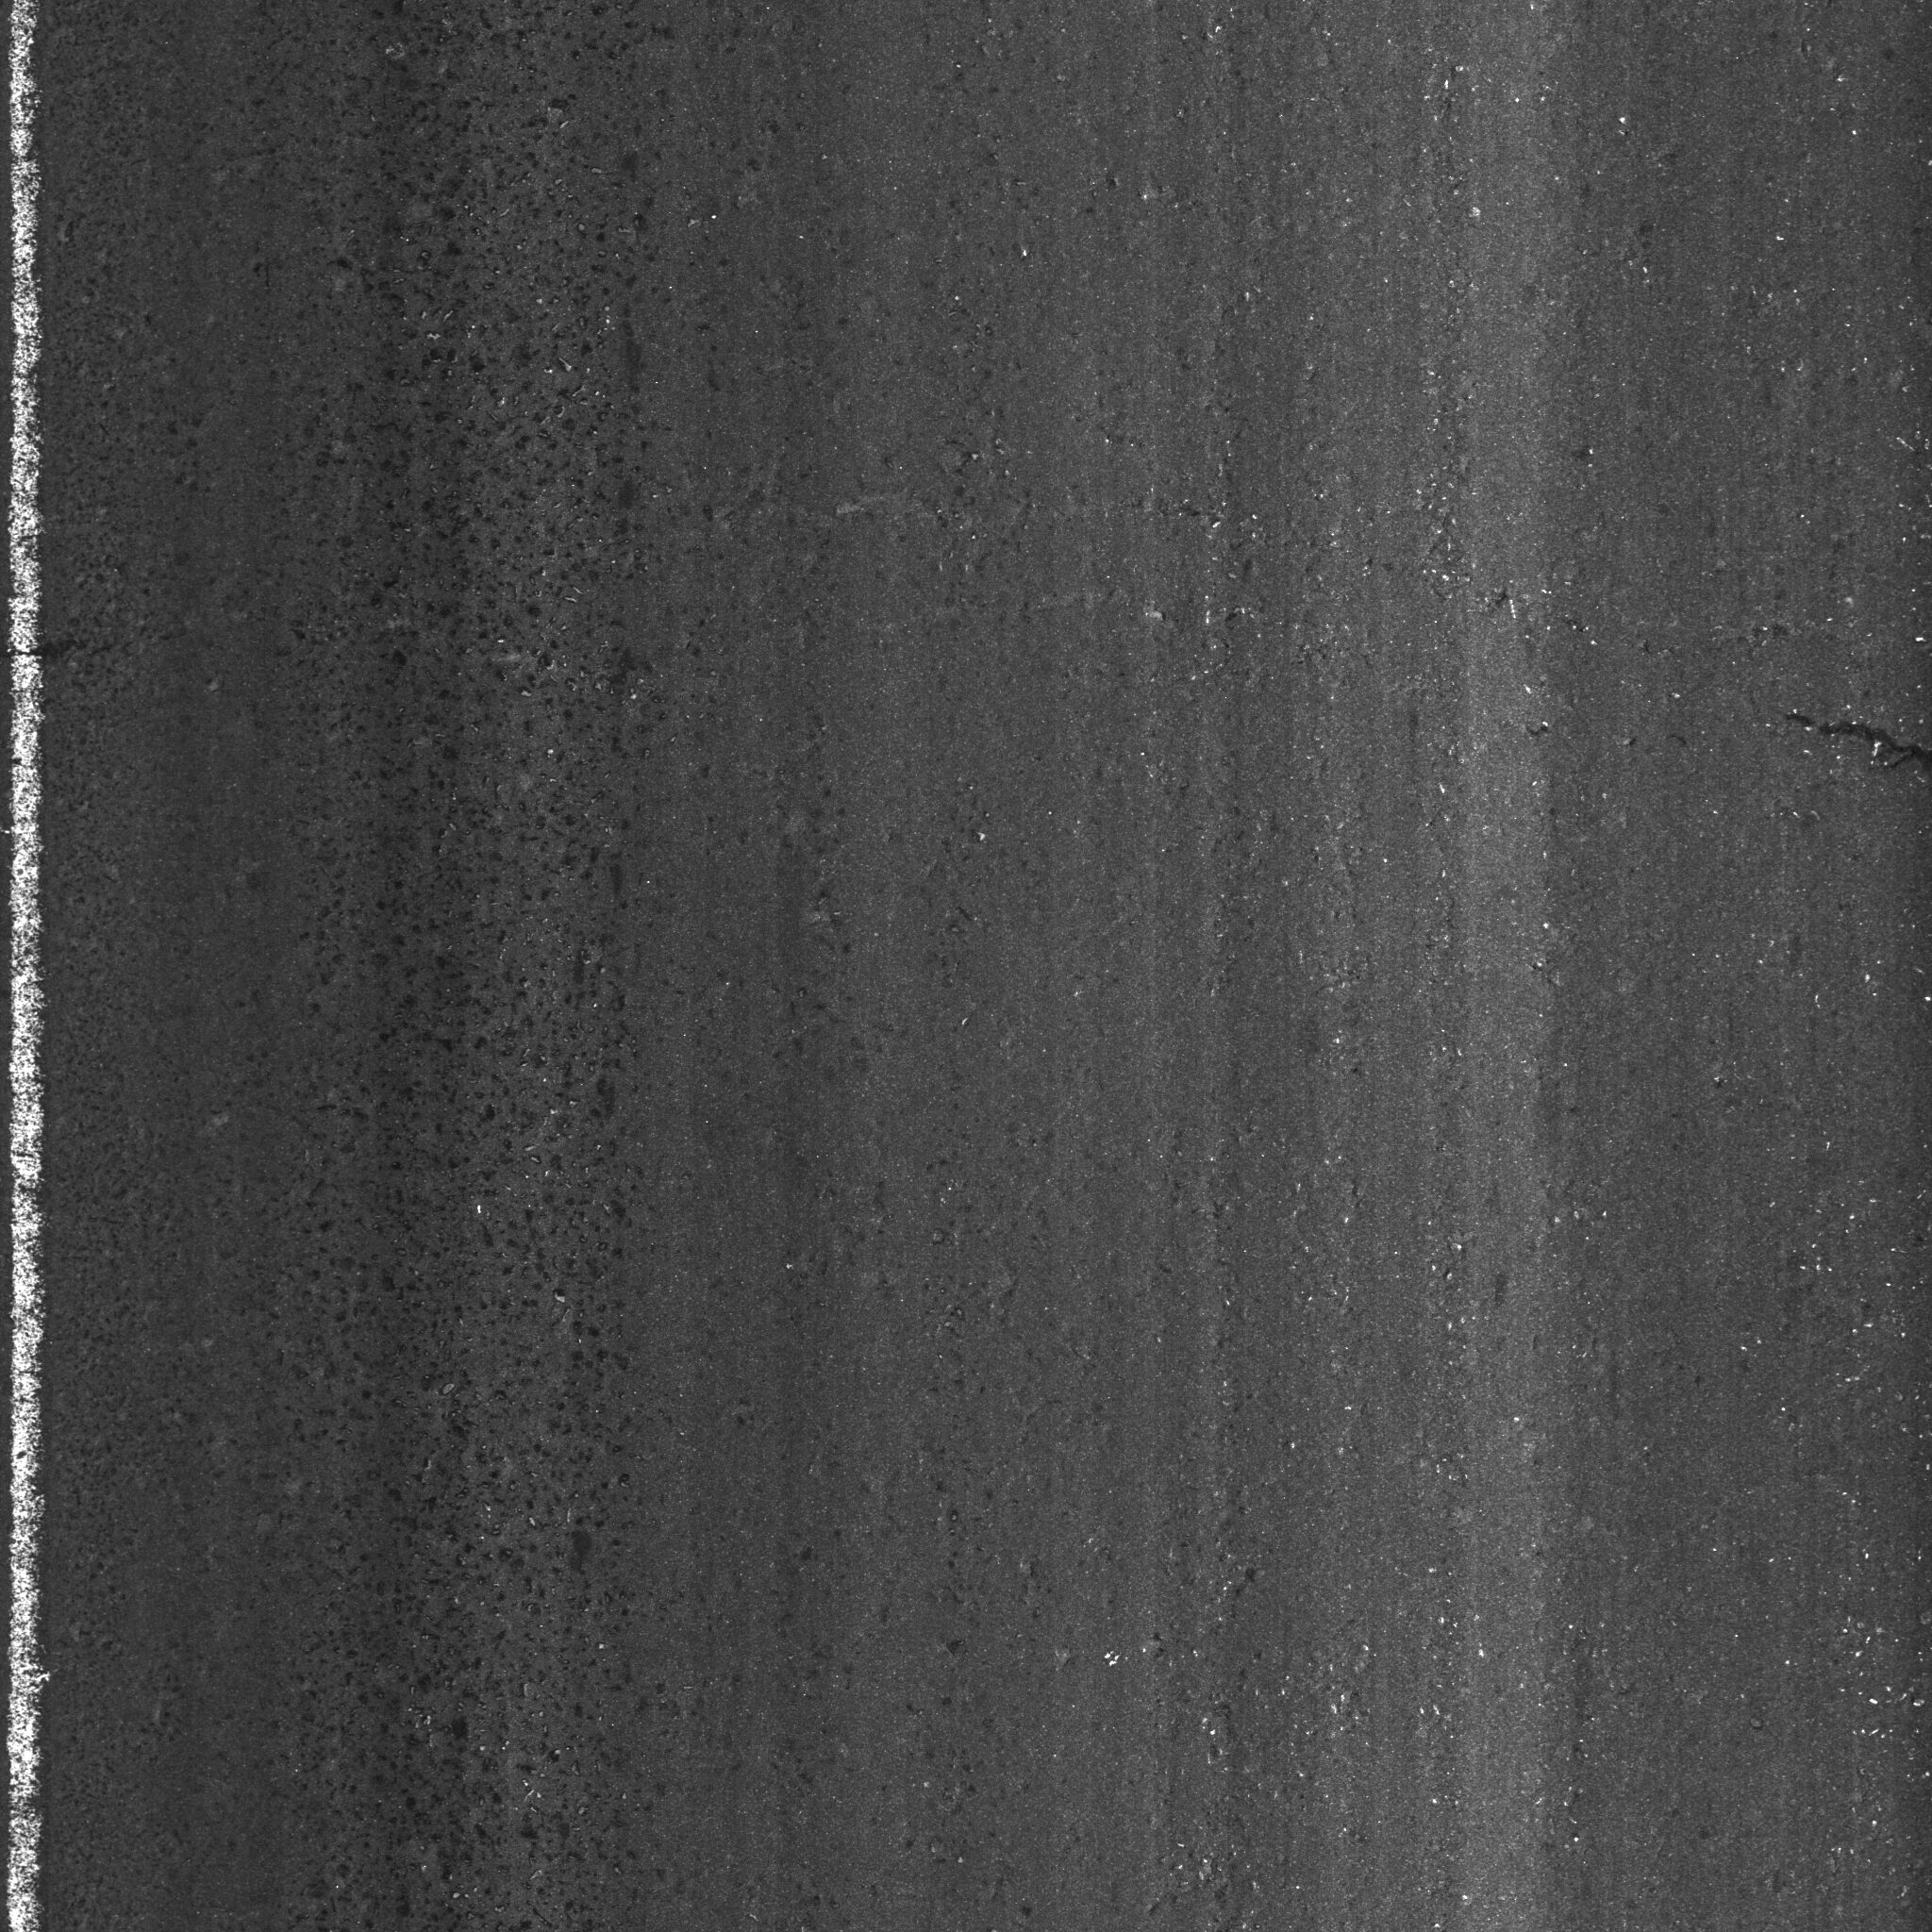transeverse: (1748, 671, 1932, 786)
